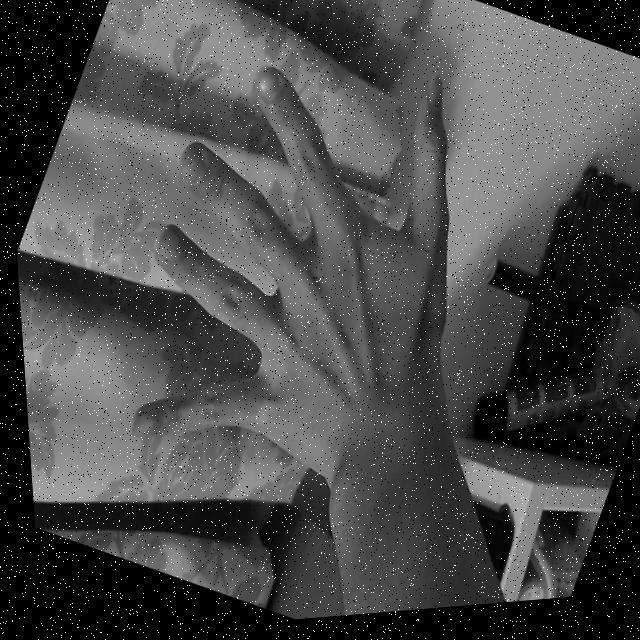no-gloves: (57, 0, 525, 536)
